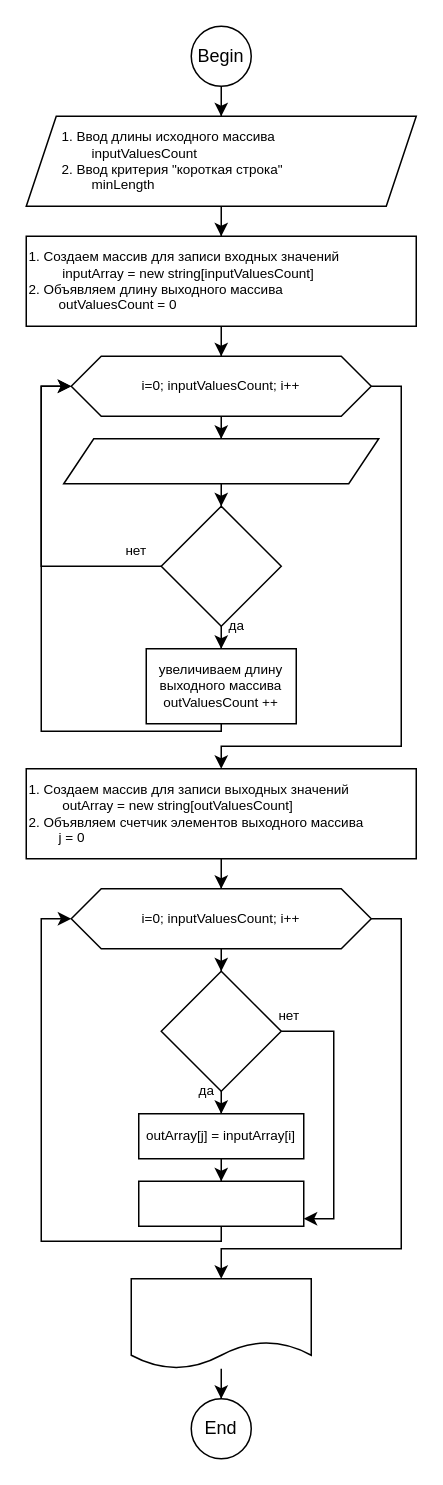
Some shapes in this 443 by 1485 pixel diagram are drawn without their labels. Here are the shapes that lost their labels. From the top down, the box of each, then its label:
(62, 437, 379, 484): Ввод элемента входного массива
(160, 505, 281, 626): длина введенного элемента < minLength
(160, 970, 281, 1091): inputArray[i] < minLength
(137, 1180, 304, 1226): j++
(130, 1277, 311, 1369): Вывод результатов: 1.входной массив 2.выходной массив
